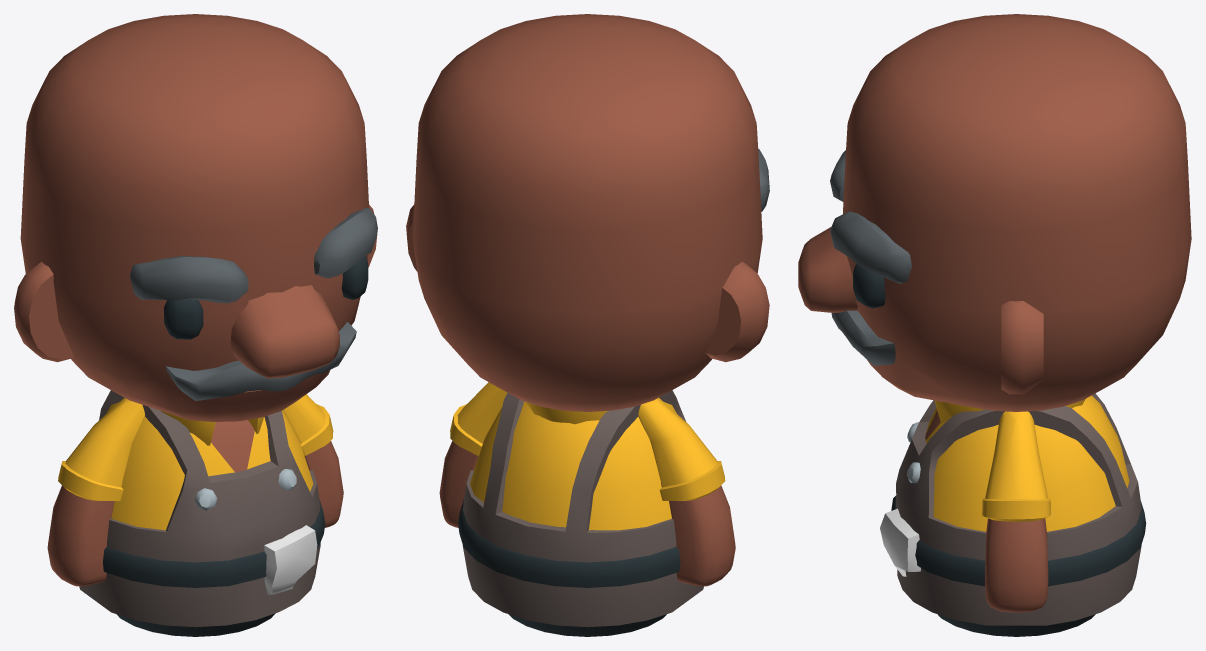
File: character_tavernkeeper.dae
The picture shows the model from 3 angles, left to right: view 1: azimuth 30°, elevation 25°; view 2: azimuth 150°, elevation 25°; view 3: azimuth 270°, elevation 25°; orthographic projection.
Visible parts, largest first — view 1: character_tavernkeeperHead, character_tavernkeeper, character_tavernkeeperArmRight, character_tavernkeeperArmLeft; view 2: character_tavernkeeperHead, character_tavernkeeper, character_tavernkeeperArmRight, character_tavernkeeperArmLeft; view 3: character_tavernkeeperHead, character_tavernkeeper, character_tavernkeeperArmLeft.
Boxes of the visible parts, <box> form: character_tavernkeeperHead: <box>14,14,377,421</box>; character_tavernkeeper: <box>79,390,325,636</box>; character_tavernkeeperArmRight: <box>47,397,144,586</box>; character_tavernkeeperArmLeft: <box>283,394,343,527</box>; character_tavernkeeperHead: <box>406,14,769,411</box>; character_tavernkeeper: <box>458,390,703,636</box>; character_tavernkeeperArmRight: <box>638,397,735,586</box>; character_tavernkeeperArmLeft: <box>439,382,507,527</box>; character_tavernkeeperHead: <box>798,14,1191,411</box>; character_tavernkeeper: <box>880,393,1146,636</box>; character_tavernkeeperArmLeft: <box>982,411,1050,612</box>.
Size of the model in its own units: 1.18 by 1.12 by 1.76.
